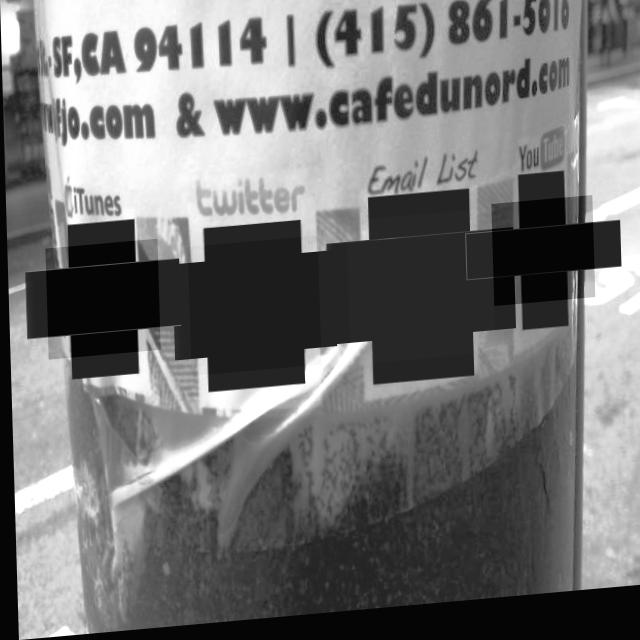qr_code: (345, 217, 493, 371), (186, 241, 319, 379), (44, 242, 158, 360), (490, 206, 593, 315)
